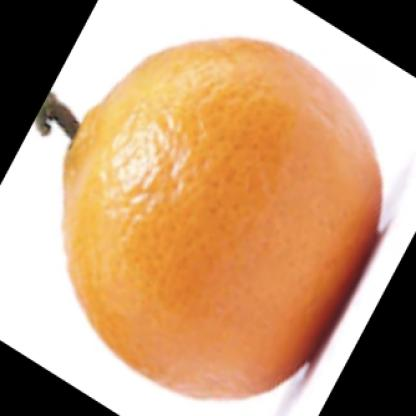fresh: (64, 39, 385, 399)
